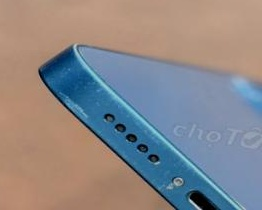scratch: (2, 40, 262, 210)
